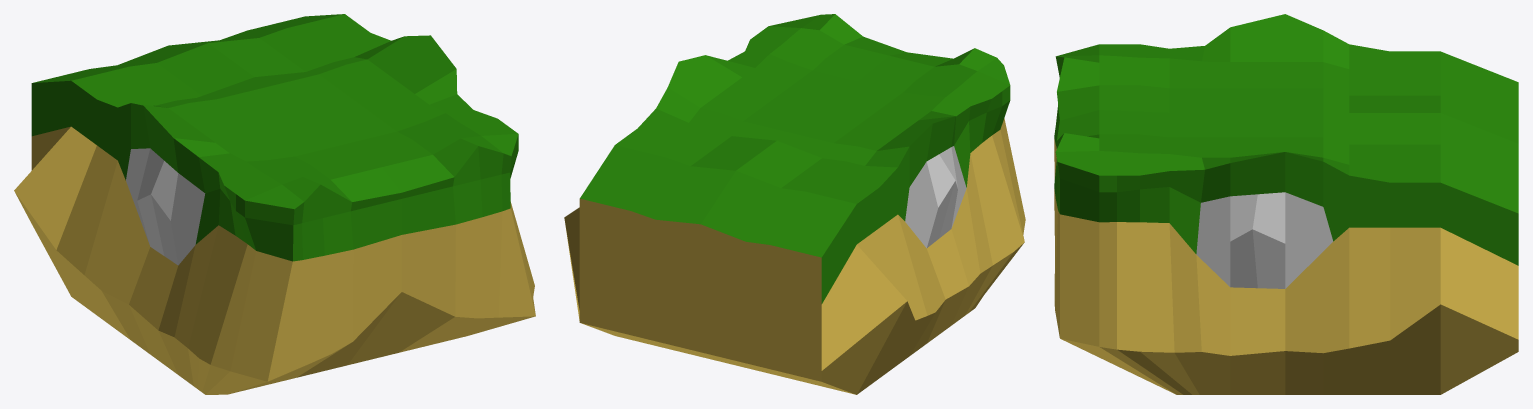
File: HeadPivot.fbx
3 renders of one model, left to right at view 1: azimuth 30°, elevation 25°; view 2: azimuth 150°, elevation 25°; view 3: azimuth 270°, elevation 25°, orthographic. The views are drawn at different scales.
Visible parts, largest first — view 1: Cube.001; view 2: Cube.001; view 3: Cube.001.
Part boxes in pixels (x1=…): Cube.001: x1=14, y1=14, x2=535, y2=394; Cube.001: x1=564, y1=14, x2=1025, y2=394; Cube.001: x1=1054, y1=14, x2=1518, y2=394.
Size of the model in its own units: 289 by 178 by 304.
